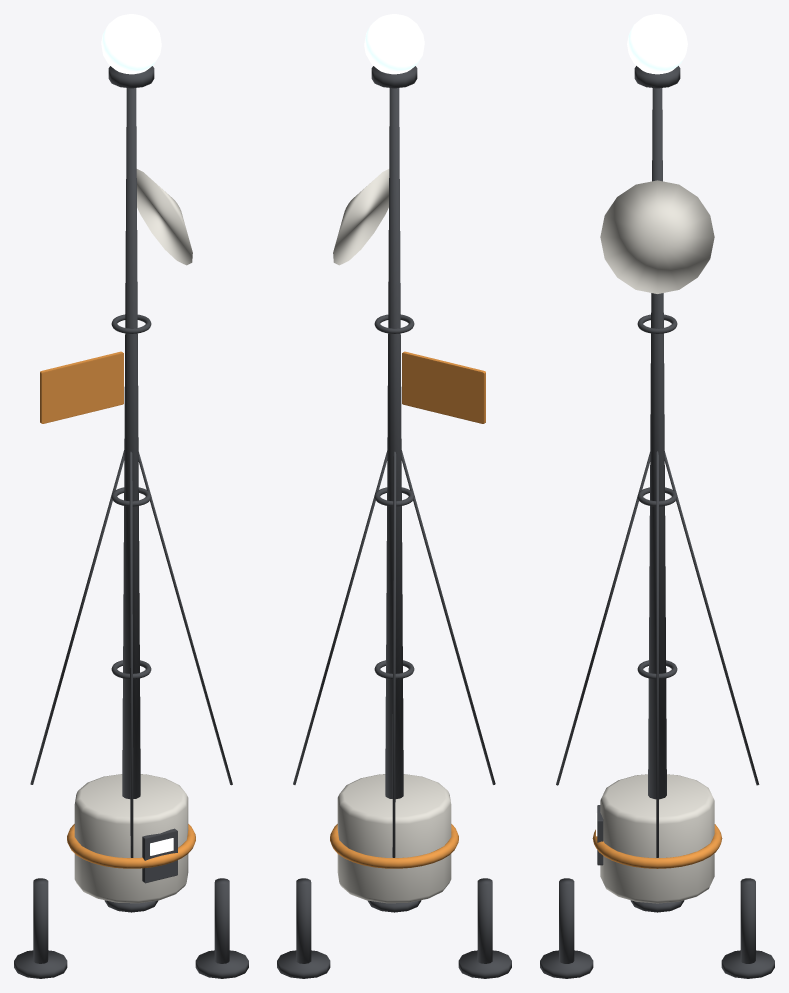
The model's file is beacon.glb.
3 renders of one model, left to right at view 1: azimuth 30°, elevation 25°; view 2: azimuth 150°, elevation 25°; view 3: azimuth 270°, elevation 25°, orthographic.
Visible parts, largest first — view 1: beacon; view 2: beacon; view 3: beacon.
Boxes of the visible parts, <box> form: beacon: <box>14,14,248,978</box>; beacon: <box>277,14,511,978</box>; beacon: <box>540,14,774,978</box>.
Bounding box in the file's own units: 1.3 × 5.38 × 1.23.
